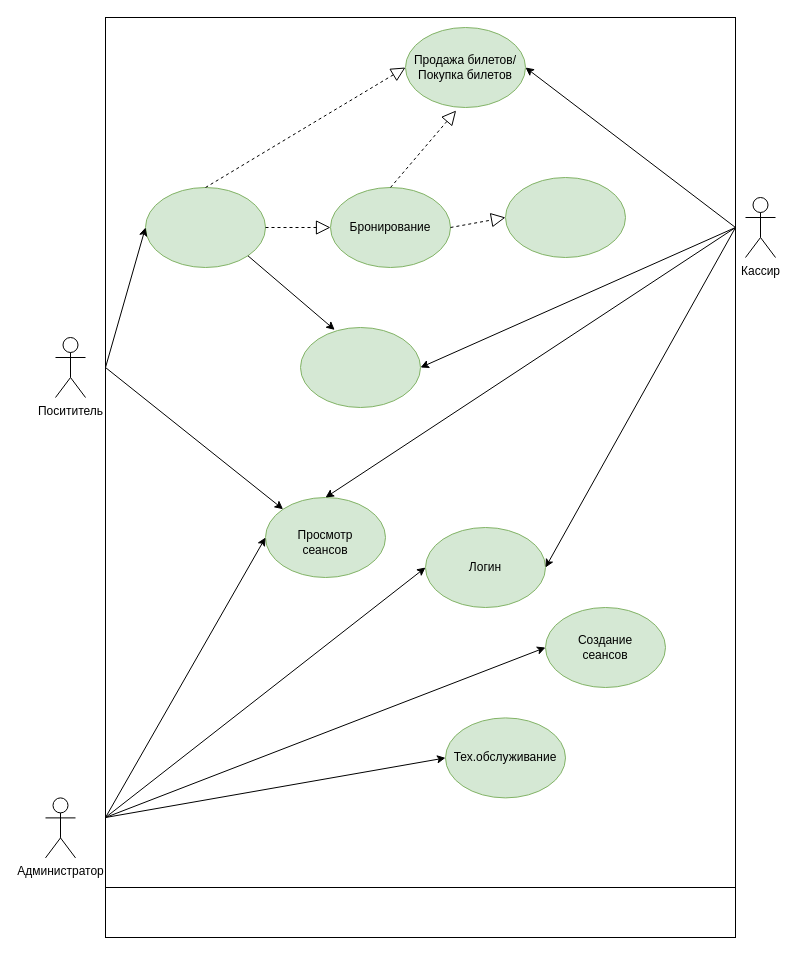
Some shapes in this 797 by 955 pixel diagram are drawn without their labels. The shapes that lost their labels are listed below. From the top down, each one's box as (x1, y1, x2, y2) in pixels, then its label:
(144, 186, 266, 268): Запрос
(504, 176, 626, 258): Снятие брони
(300, 326, 420, 408): Возврат билетов
(104, 886, 736, 938): PlayerCinema
